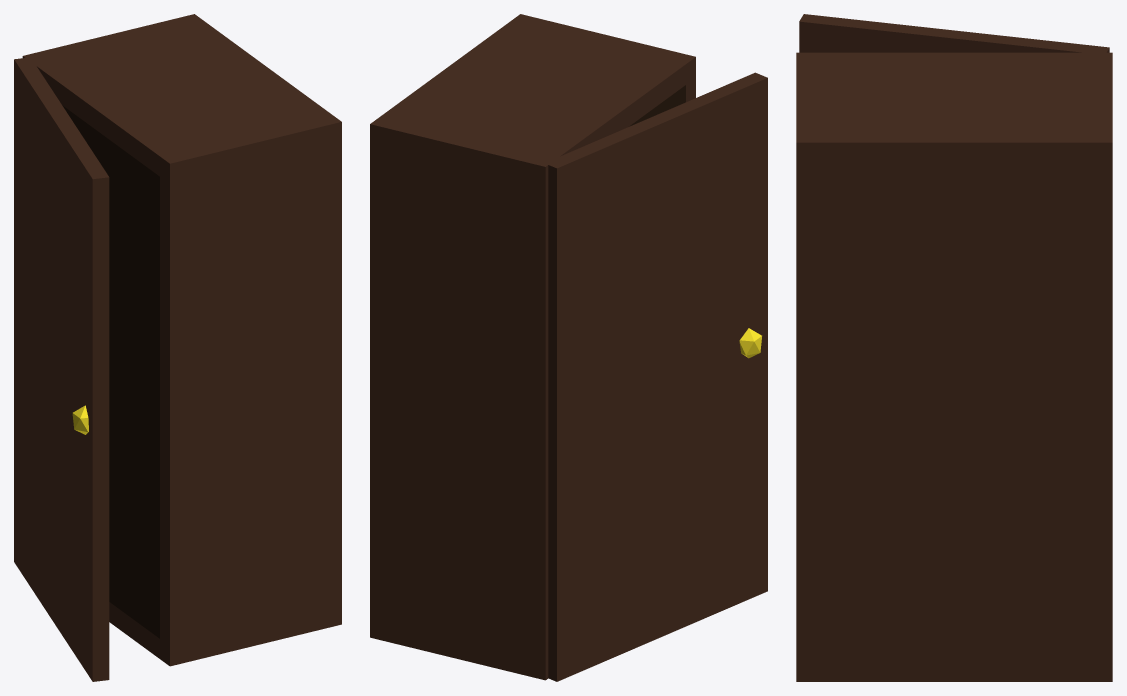
Rendered from closetTile.glb.
3 views of the same model, side by side, from view 1: azimuth 30°, elevation 25°; view 2: azimuth 150°, elevation 25°; view 3: azimuth 270°, elevation 25° (orthographic). The views are drawn at different scales.
Parts seen in each view (by area): view 1: Cube; view 2: Cube; view 3: Cube.
Boxes of the visible parts, box(x1,y1,x2,y2) form: Cube: box(14, 14, 341, 681); Cube: box(370, 14, 767, 681); Cube: box(796, 14, 1112, 681).
Size of the model in its own units: 0.9924 by 1.9 by 1.01.
1 material, 1 textured.
